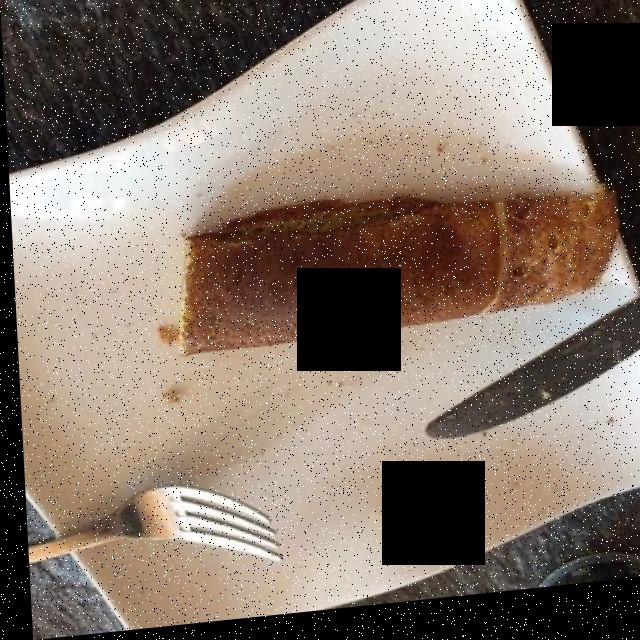crepe-plain: (175, 204, 612, 356)
